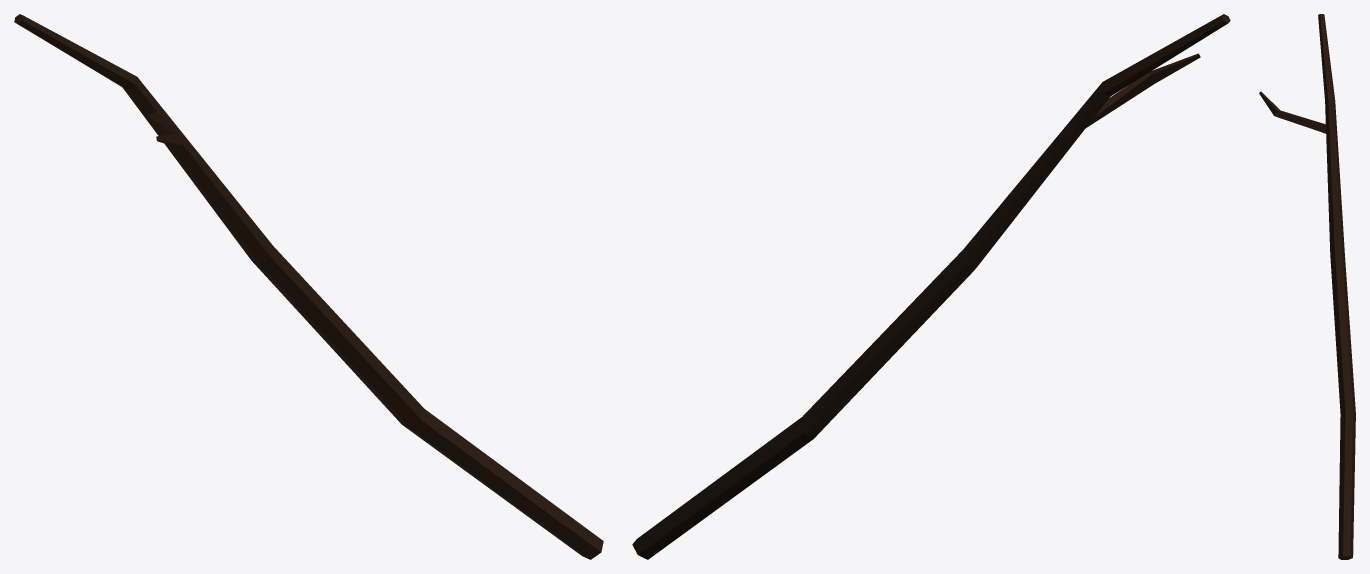
File: Wood-plank-1.fbx
3 renders of one model, left to right at view 1: azimuth 30°, elevation 25°; view 2: azimuth 150°, elevation 25°; view 3: azimuth 270°, elevation 25°, orthographic. The views are drawn at different scales.
Visible parts, largest first — view 1: Cylinder.086; view 2: Cylinder.086; view 3: Cylinder.086.
Part boxes in pixels (left/top/right/bottom): Cylinder.086: left=14, top=14, right=603, bottom=559; Cylinder.086: left=632, top=14, right=1230, bottom=559; Cylinder.086: left=1259, top=14, right=1355, bottom=559.
Bounding box in the file's own units: 1275 × 1406 × 318.
